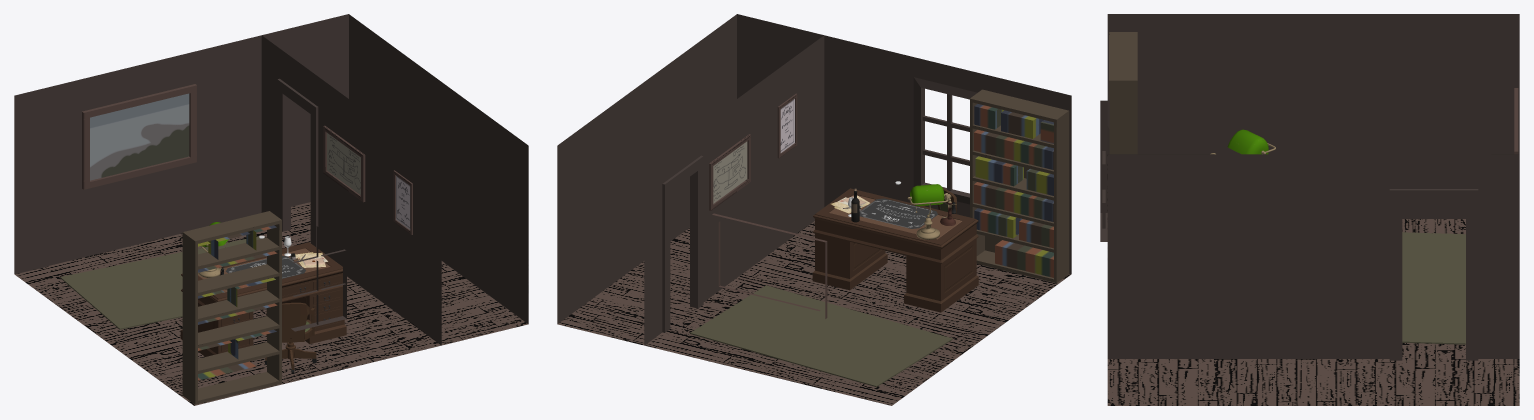
Rendered from board.glb.
3 renders of one model, left to right at view 1: azimuth 30°, elevation 25°; view 2: azimuth 150°, elevation 25°; view 3: azimuth 270°, elevation 25°, orthographic. The views are drawn at different scales.
Visible parts, largest first — view 1: Room, Room.001, Cube, Cube.001, Desk, Plane.001, Board, Room.002; view 2: Room, Room.001, Cube.001, Desk, Cube, Board, Room.002, Lamp; view 3: Room, Cube.001, Room.001, Lamp, Room.002.
Boxes of the visible parts, box(x1,y1,x2,y2) form: Room: box(14, 14, 528, 405); Room.001: box(182, 211, 281, 404); Cube: box(82, 84, 412, 234); Cube.001: box(60, 236, 264, 329); Desk: box(180, 242, 346, 356); Plane.001: box(264, 302, 316, 373); Board: box(226, 255, 305, 285); Room.002: box(293, 226, 345, 324); Room: box(557, 14, 1071, 405); Room.001: box(970, 89, 1069, 283); Cube.001: box(690, 285, 952, 386); Desk: box(812, 188, 978, 312); Cube: box(709, 93, 827, 318); Board: box(859, 198, 937, 228); Room.002: box(922, 94, 969, 190); Lamp: box(907, 184, 948, 239); Room: box(1100, 14, 1519, 405); Cube.001: box(1402, 232, 1465, 344); Room.001: box(1109, 32, 1137, 154); Lamp: box(1227, 129, 1275, 154); Room.002: box(1102, 116, 1105, 228).
Bounding box in the file's own units: 22.21 × 11.35 × 21.05.
Materials: 18 (14 with a texture image).
